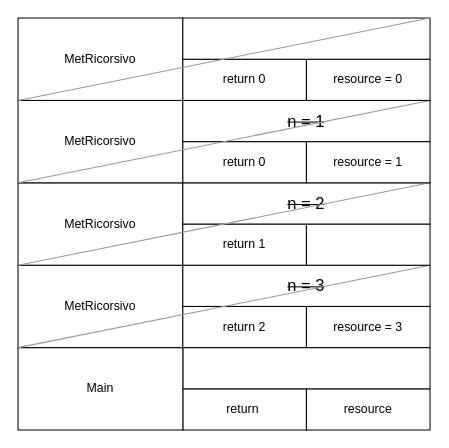
The diagram is 449 pixels wide and 448 high, and some of its shapes have lost their labels. The shapes that lost their labels are listed below. From the top down, each one's centre as x and y in pixels, then its label:
At (x=306, y=38): "n = 0".
At (x=367, y=244): "resource = 2".
